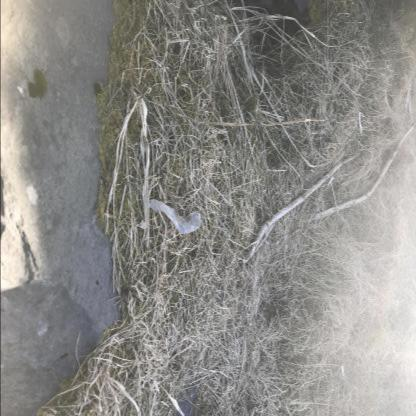Cigarette: (340, 365, 344, 377)
Plastic bag - wrapper: (149, 199, 202, 234)
